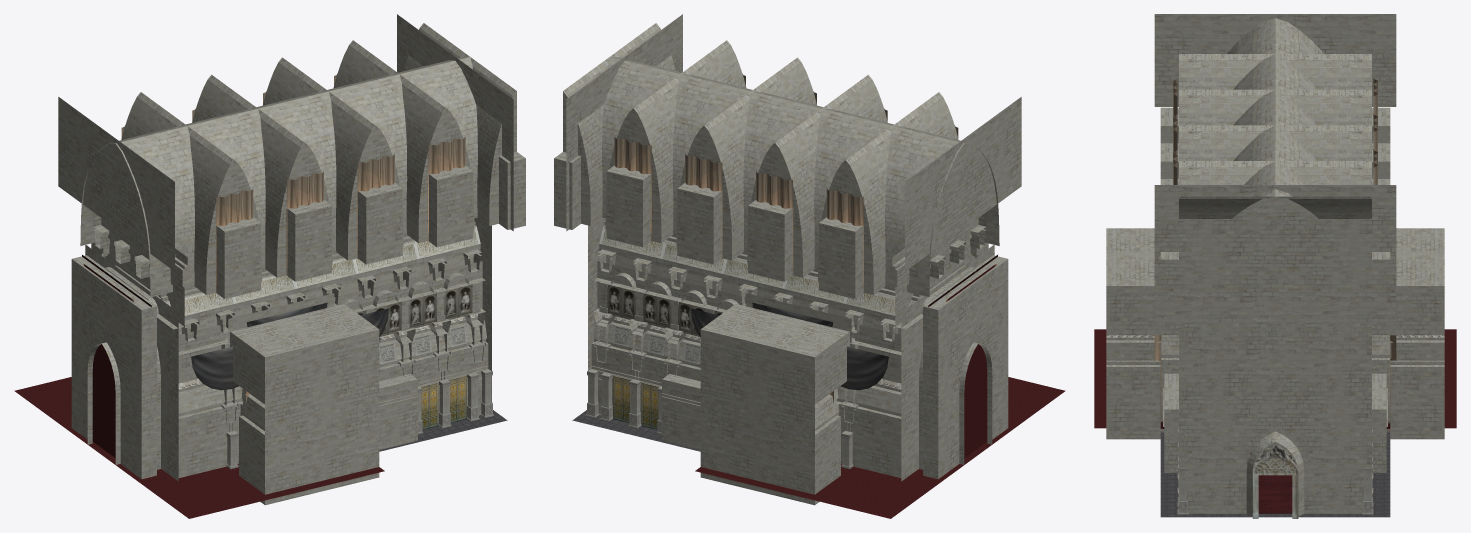
Rendered from AnorLondo.fbx.
3 views of the same model, side by side, from view 1: azimuth 30°, elevation 25°; view 2: azimuth 150°, elevation 25°; view 3: azimuth 270°, elevation 25° (orthographic). The views are drawn at different scales.
Visible parts, largest first — view 1: mesh0.051, mesh3.041, mesh8.035, mesh6.040, mesh7.036, mesh12.025, mesh9.033, mesh11.029, mesh1.043; view 2: mesh0.051, mesh3.041, mesh8.035, mesh6.040, mesh7.036, mesh12.025, mesh9.033, mesh11.029, mesh1.043; view 3: mesh0.051, mesh1.043, mesh3.041, mesh6.040, mesh18.014, mesh2.043, mesh8.035, mesh9.033.
Boxes of the visible parts, x1,y1,x2,y2 form: mesh0.051: [58, 14, 525, 505]; mesh3.041: [14, 265, 384, 518]; mesh8.035: [103, 226, 492, 469]; mesh6.040: [121, 74, 465, 402]; mesh7.036: [191, 302, 388, 390]; mesh12.025: [357, 284, 472, 336]; mesh9.033: [184, 252, 492, 466]; mesh11.029: [420, 376, 466, 429]; mesh1.043: [379, 410, 507, 451]; mesh0.051: [554, 14, 1021, 505]; mesh3.041: [695, 265, 1065, 518]; mesh8.035: [587, 226, 976, 469]; mesh6.040: [614, 74, 958, 402]; mesh7.036: [691, 302, 888, 390]; mesh12.025: [607, 284, 722, 336]; mesh9.033: [587, 252, 895, 466]; mesh11.029: [613, 376, 659, 429]; mesh1.043: [572, 410, 700, 451]; mesh0.051: [1106, 14, 1444, 516]; mesh1.043: [1160, 432, 1390, 517]; mesh3.041: [1094, 329, 1456, 428]; mesh6.040: [1154, 78, 1396, 422]; mesh18.014: [1252, 444, 1298, 518]; mesh2.043: [1258, 475, 1292, 513]; mesh8.035: [1106, 335, 1444, 513]; mesh9.033: [1178, 432, 1372, 500].
Size of the model in its own units: 3651 by 3051 by 3000.
